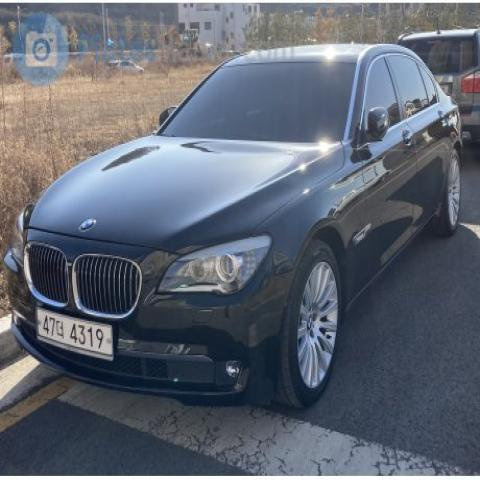LP: (27, 300, 122, 368)
